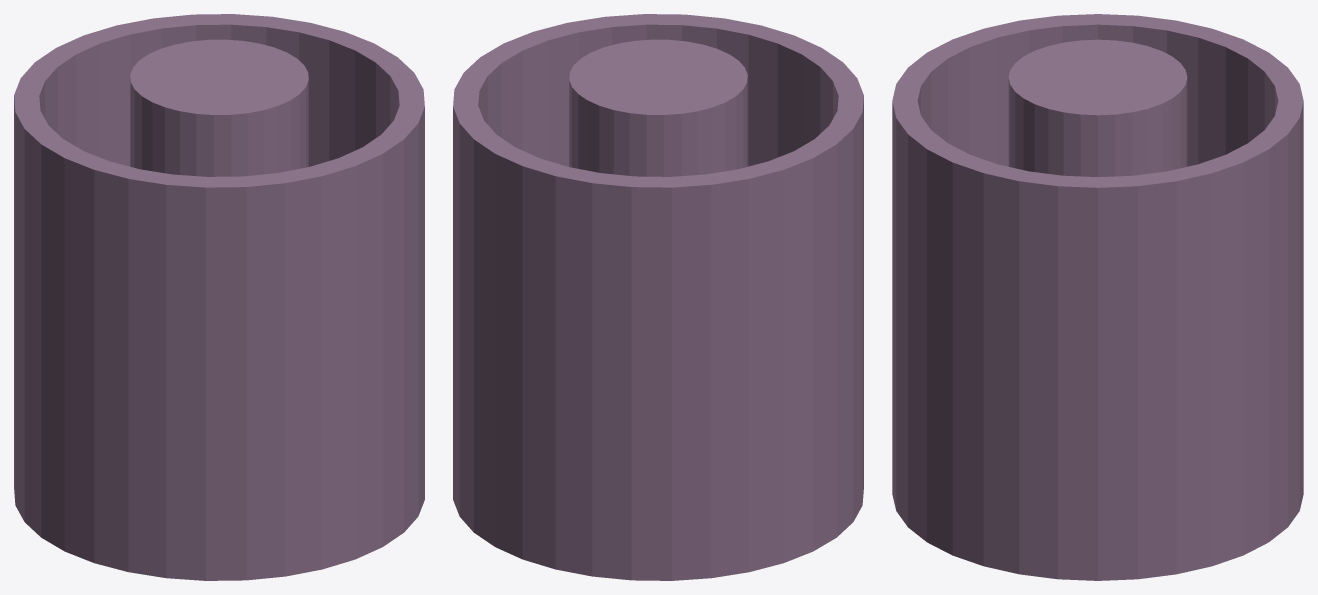
File: LightHouse Collider.fbx
3 renders of one model, left to right at view 1: azimuth 30°, elevation 25°; view 2: azimuth 150°, elevation 25°; view 3: azimuth 270°, elevation 25°, orthographic.
Parts seen in each view (by area): view 1: LighthouseTopCollider.001; view 2: LighthouseTopCollider.001; view 3: LighthouseTopCollider.001.
Boxes of the visible parts, box(x1,y1,x2,y2) form: LighthouseTopCollider.001: box(14, 14, 424, 580); LighthouseTopCollider.001: box(453, 14, 863, 580); LighthouseTopCollider.001: box(892, 14, 1303, 580).
Size of the model in its own units: 2267 by 2533 by 2267.
